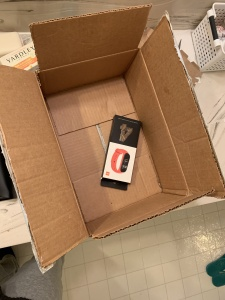innerbox: (48, 54, 178, 208)
outerbox: (1, 18, 219, 237)
product: (105, 116, 136, 190)
